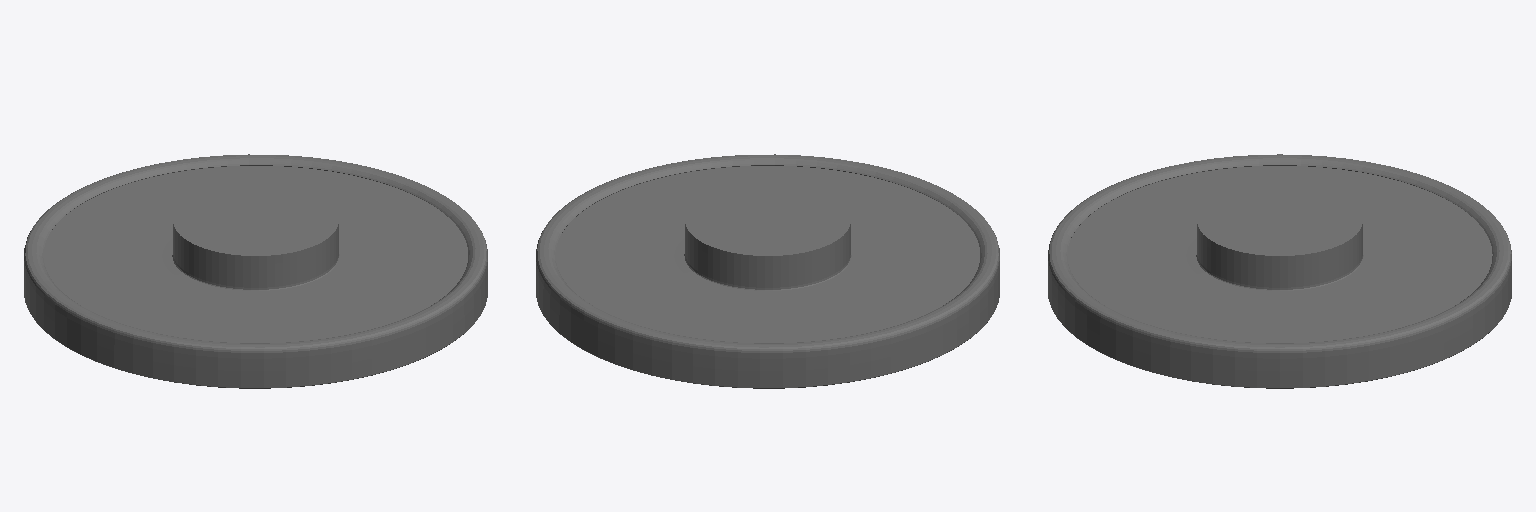
File: shaderball_hd_base_inside.obj
3 views of the same model, side by side, from view 1: azimuth 30°, elevation 25°; view 2: azimuth 150°, elevation 25°; view 3: azimuth 270°, elevation 25° (orthographic).
Visible parts, largest first — view 1: base_inside; view 2: base_inside; view 3: base_inside.
Boxes of the visible parts, <box> form: base_inside: <box>24,154,487,388</box>; base_inside: <box>536,154,999,388</box>; base_inside: <box>1048,154,1511,388</box>.
Size of the model in its own units: 168 by 27.76 by 168.